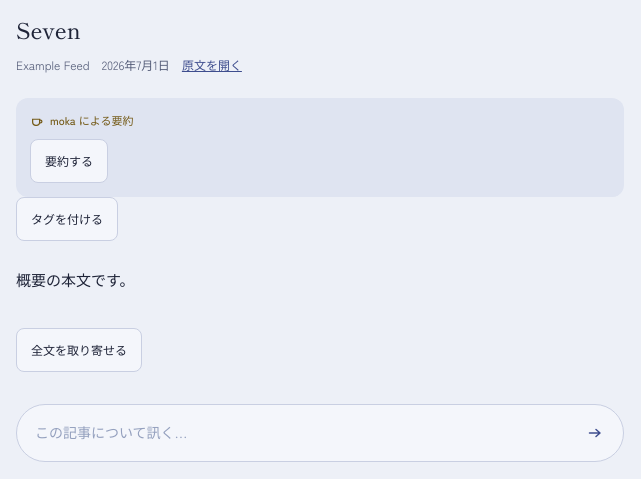
Test: articles/[id] reading view — 全文取り寄せ › sanitizes dangerous markup out of the fetched full text
This screenshot has width=641, height=479.
Click the button "全文を取り寄せる". click: point(79, 350)
box: [16, 328, 142, 372]
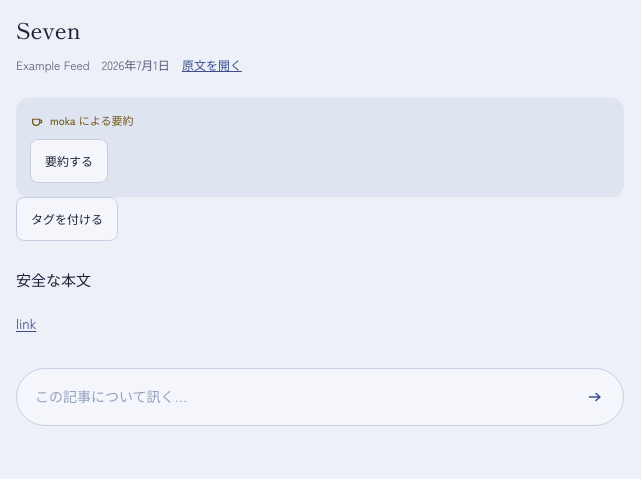
Expected: the text "安全な本文" is shown, [16, 269, 91, 290]
